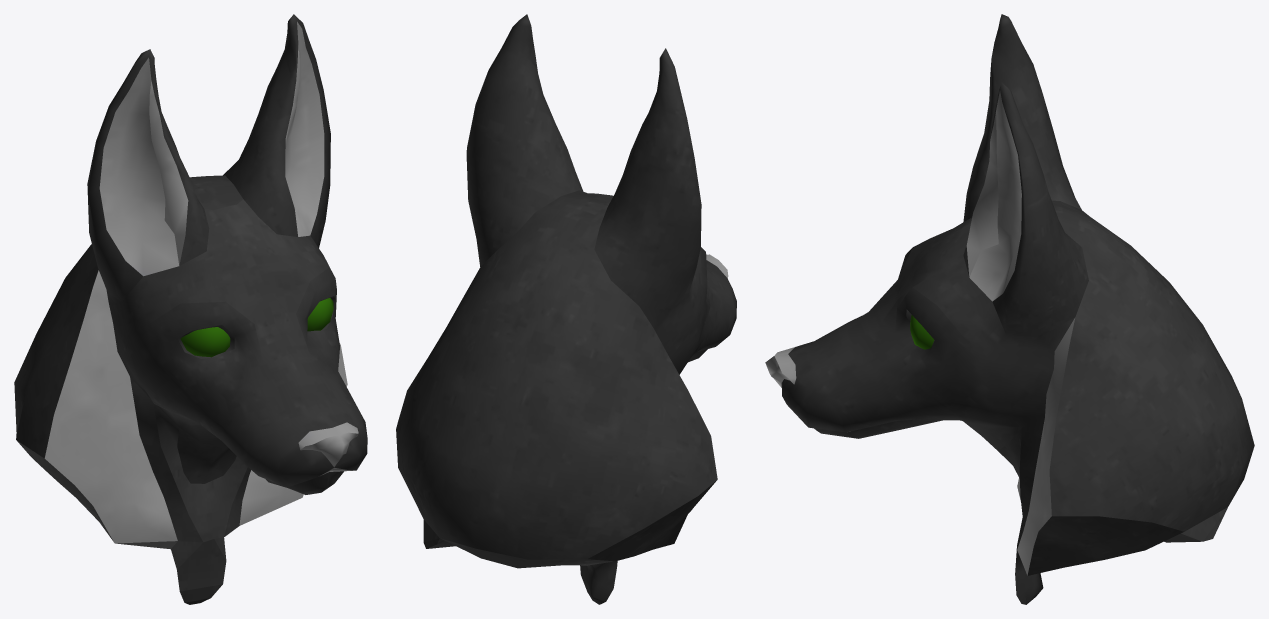
The model's file is god-anubis-art.glb.
3 renders of one model, left to right at view 1: azimuth 30°, elevation 25°; view 2: azimuth 150°, elevation 25°; view 3: azimuth 270°, elevation 25°, orthographic. The views are drawn at different scales.
Parts seen in each view (by area): view 1: GodAnubis_Art; view 2: GodAnubis_Art; view 3: GodAnubis_Art.
Boxes of the visible parts, bbox=[...] form: GodAnubis_Art: bbox=[14, 14, 367, 604]; GodAnubis_Art: bbox=[396, 14, 736, 604]; GodAnubis_Art: bbox=[765, 14, 1254, 604].
Bounding box in the file's own units: 1.28 × 2.28 × 1.8.
2 materials, 1 textured.
